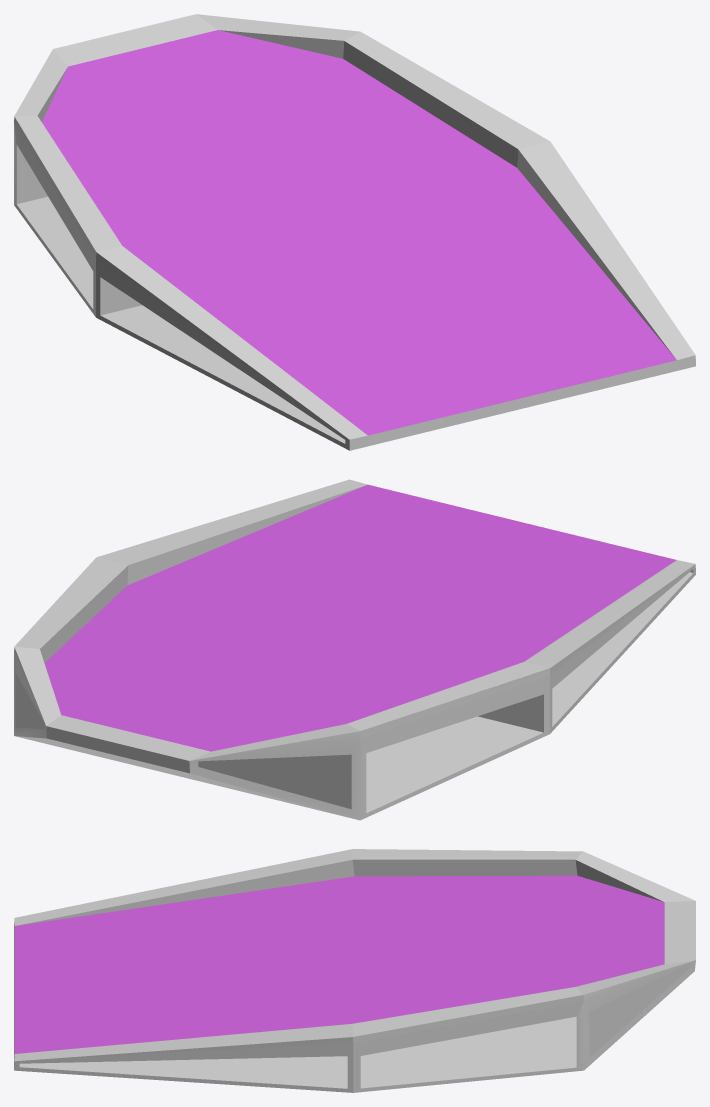
Rendered from Jump Pad 2 V2.0.fbx.
3 views of the same model, one above another, from view 1: azimuth 30°, elevation 25°; view 2: azimuth 150°, elevation 25°; view 3: azimuth 270°, elevation 25° (orthographic). The views are drawn at different scales.
Parts seen in each view (by area): view 1: jump_pad_2_0; view 2: jump_pad_2_0; view 3: jump_pad_2_0.
Part boxes in pixels (x1,y1,x2,y2): jump_pad_2_0: (14, 14, 695, 450); jump_pad_2_0: (14, 479, 695, 820); jump_pad_2_0: (14, 849, 695, 1092).
Size of the model in its own units: 211 by 39.67 by 324.
